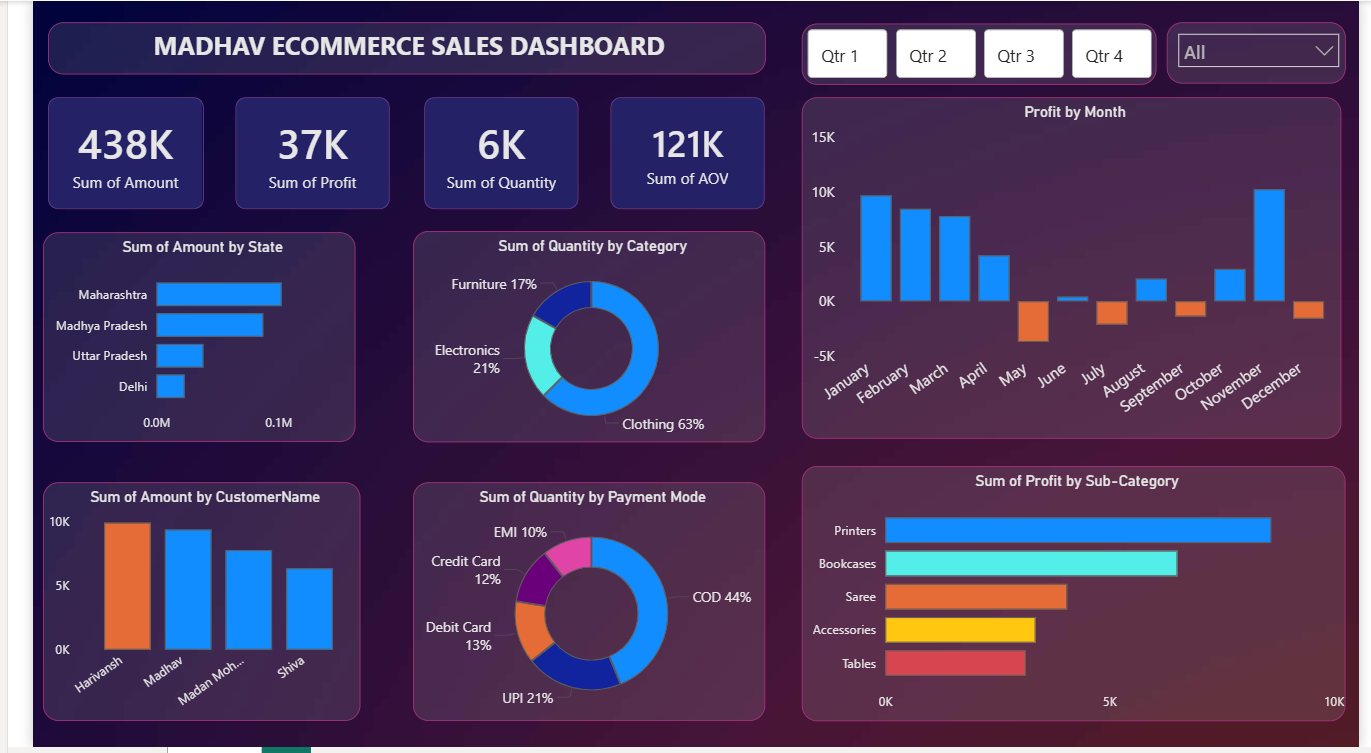

This screenshot's page, from the dashboard's own definition file:
{"tool":"powerbi","page":{"name":"Page 1","canvas":[1280,720],"ordinal":0},"visuals":[{"type":"textbox","box":[14.5,20.5,692.5,50.7],"z":0},{"type":"columnChart","title":"Profit by Month","fields":{"Category":["Orders.Order Date.Variation.Date Hierarchy.Month"],"Y":["Sum(Details.Profit)"]},"box":[742,92.9,521.2,329.4],"z":1000},{"type":"barChart","fields":{"Category":["Details.Sub-Category"],"Y":["Sum(Details.Profit)"]},"box":[742,448.8,524.8,246.1],"z":2000},{"type":"donutChart","fields":{"Category":["Details.Category"],"Y":["Sum(Details.Quantity)"]},"box":[366.8,222,340.2,203.9],"z":3000},{"type":"donutChart","title":"Sum of Quantity by Payment Mode","fields":{"Y":["Sum(Details.Quantity)"],"Category":["Details.PaymentMode"]},"box":[366.8,464.5,340.2,230.4],"z":4000},{"type":"cardVisual","fields":{"Data":["Sum(Details.Amount)"]},"box":[14.5,92.9,150.8,108.6],"z":5000},{"type":"cardVisual","fields":{"Data":["Sum(Details.Profit)"]},"box":[195.4,92.9,149.6,108.6],"z":6000},{"type":"cardVisual","fields":{"Data":["Sum(Details.Quantity)"]},"box":[377.6,92.9,149.6,108.6],"z":7000},{"type":"cardVisual","fields":{"Data":["Sum(Details.AOV)"]},"box":[557.4,92.9,149.6,108.6],"z":8000},{"type":"barChart","fields":{"Category":["Orders.State"],"Y":["Sum(Details.Amount)"]},"box":[9.7,223.2,301.6,202.7],"z":9000},{"type":"columnChart","fields":{"Category":["Orders.CustomerName"],"Y":["Sum(Details.Amount)"]},"box":[9.7,464.5,306.4,230.4],"z":10000},{"type":"advancedSlicerVisual","fields":{"Values":["Orders.Order Date.Variation.Date Hierarchy.Quarter"]},"box":[742,21.7,342.6,59.1],"z":11000},{"type":"slicer","fields":{"Values":["Orders.State"]},"box":[1094.2,20.5,172.5,59.1],"z":12000}]}

Visuals, with their boxes in screenshot pixels (x1, y1, x2, y2), scaled from the page's 1280x720 canvas onto the 1371x753 screenshot:
textbox: l=16, t=21, r=757, b=74
"Profit by Month" columnChart: l=795, t=97, r=1353, b=442
barChart - Details.Sub-Category x Sum(Details.Profit): l=795, t=469, r=1357, b=727
donutChart - Details.Category x Sum(Details.Quantity): l=393, t=232, r=757, b=445
"Sum of Quantity by Payment Mode" donutChart: l=393, t=486, r=757, b=727
cardVisual - Sum(Details.Amount): l=16, t=97, r=177, b=211
cardVisual - Sum(Details.Profit): l=209, t=97, r=370, b=211
cardVisual - Sum(Details.Quantity): l=404, t=97, r=565, b=211
cardVisual - Sum(Details.AOV): l=597, t=97, r=757, b=211
barChart - Orders.State x Sum(Details.Amount): l=10, t=233, r=333, b=445
columnChart - Orders.CustomerName x Sum(Details.Amount): l=10, t=486, r=339, b=727
advancedSlicerVisual - Orders.Order Date.Variation.Date Hierarchy.Quarter: l=795, t=23, r=1162, b=85
slicer - Orders.State: l=1172, t=21, r=1357, b=83
